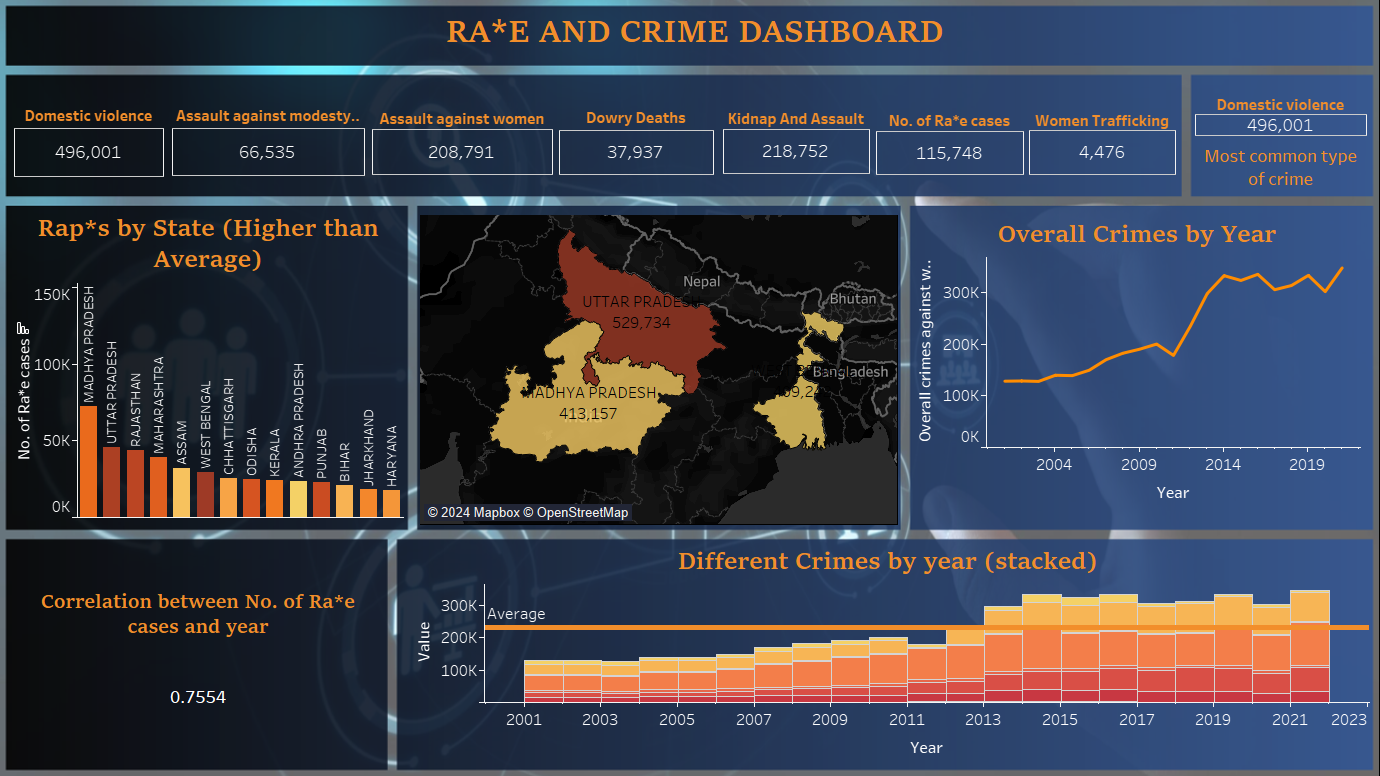

The page's visual inventory and layout, read from the dashboard file:
{"tool":"tableau","page":{"name":"Dashboard 3","canvas":[1600,800],"ordinal":2},"visuals":[{"type":"image","param":"C:/Users/azhar/Downloads/HR background.pptx.png","box":[8,8,1584,784]},{"type":"text","box":[130,21,1349,50]},{"type":"worksheet","title":"Common type of crime (3)","mark":"Automatic","box":[1305,91,172,113]},{"type":"worksheet","title":"Domestic violence","mark":"Automatic","box":[124,100,150,89]},{"type":"worksheet","title":"Against modesty","mark":"Automatic","box":[282,100,193,88]},{"type":"worksheet","title":"Dowry Deaths","mark":"Automatic","box":[669,102,155,85]},{"type":"worksheet","title":"Assault","mark":"Automatic","box":[482,105,181,82]},{"type":"worksheet","title":"K & A","mark":"Automatic","box":[833,105,147,81]},{"type":"worksheet","title":"Rape cases","mark":"Automatic","box":[986,107,148,80]},{"type":"worksheet","title":"Women trafficking","mark":"Automatic","box":[1139,107,147,80]},{"type":"worksheet","title":"Overall Crimes against women (map)","mark":"Automatic","box":[530,212,477,324]},{"type":"worksheet","title":"Rap*s by State","mark":"Automatic","rows":["Rape"],"cols":["State"],"box":[123,223,390,306]},{"type":"worksheet","title":"Crimes by Year","mark":"Automatic","rows":["Calculation_749849396358557696"],"cols":["Year"],"box":[1024,229,446,293]},{"type":"worksheet","title":"Crimes by year (stacked)","mark":"Bar","cols":["Year"],"box":[516,556,963,221]},{"type":"text","box":[124,557,368,212]}]}

Visuals, with their boxes on the page's 1600x800 design canvas (x1, y1, x2, y2). These are canvas units, not pixel positions in the 1380x776 screenshot, which may show the page scaled, cropped or inside an application window:
image: 8, 8, 1592, 792
text: 130, 21, 1479, 71
"Common type of crime (3)" worksheet: 1305, 91, 1477, 204
"Domestic violence" worksheet: 124, 100, 274, 189
"Against modesty" worksheet: 282, 100, 475, 188
"Dowry Deaths" worksheet: 669, 102, 824, 187
"Assault" worksheet: 482, 105, 663, 187
"K & A" worksheet: 833, 105, 980, 186
"Rape cases" worksheet: 986, 107, 1134, 187
"Women trafficking" worksheet: 1139, 107, 1286, 187
"Overall Crimes against women (map)" worksheet: 530, 212, 1007, 536
"Rap*s by State" worksheet: 123, 223, 513, 529
"Crimes by Year" worksheet: 1024, 229, 1470, 522
"Crimes by year (stacked)" worksheet (Bar marks): 516, 556, 1479, 777
text: 124, 557, 492, 769
